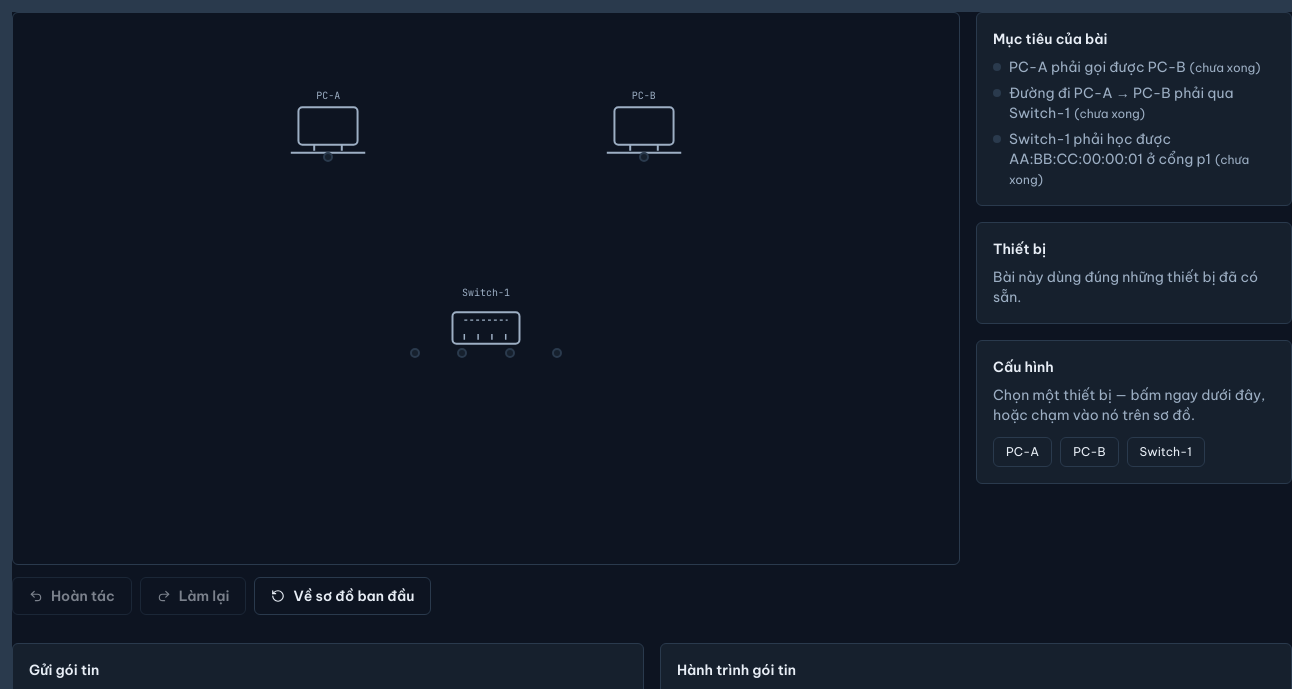
Test: nối dây bằng bấm chọn hai đầu › nối đủ hai máy vào switch thì bài xong
The image size is (1292, 689).
What coordinates should you click on to do the following:
click the 1st button "PC-A"
I would click on:
 (328, 131)
Its box is [291,105,366,157].
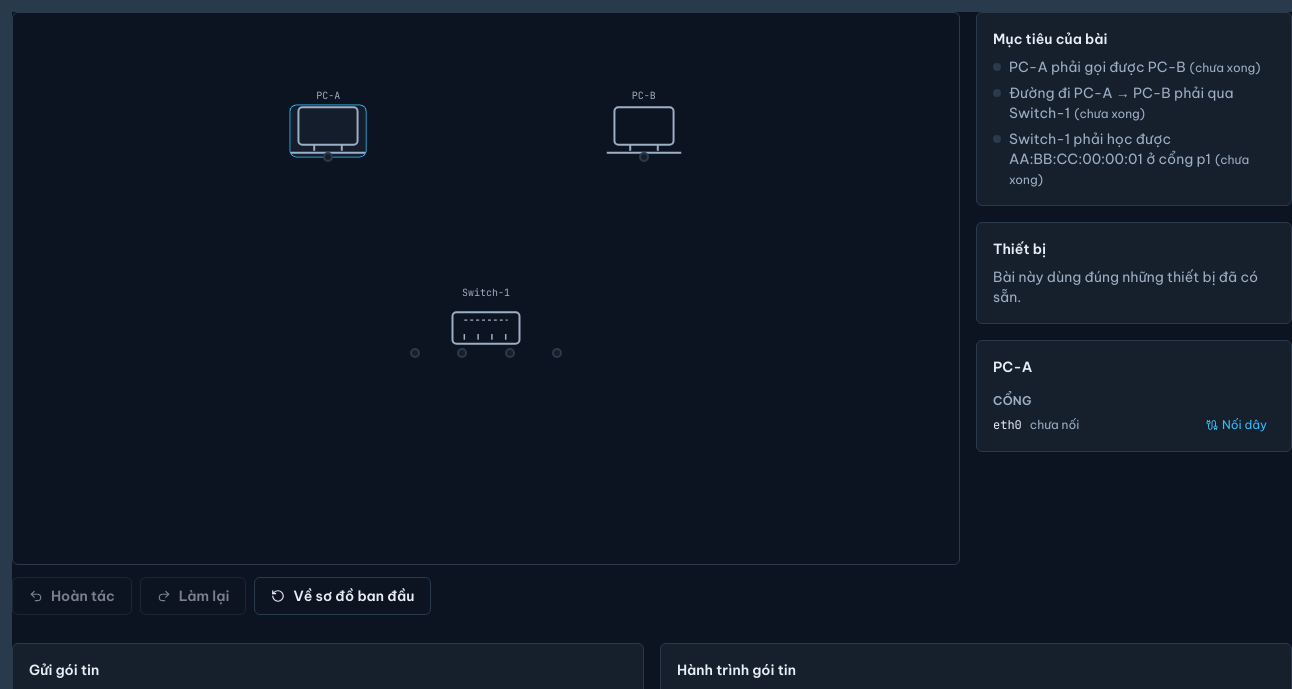
What coordinates should you click on to do the following:
click the button "Nối dây"
I would click on:
 (1236, 425)
Its box is [1198,415,1275,435].
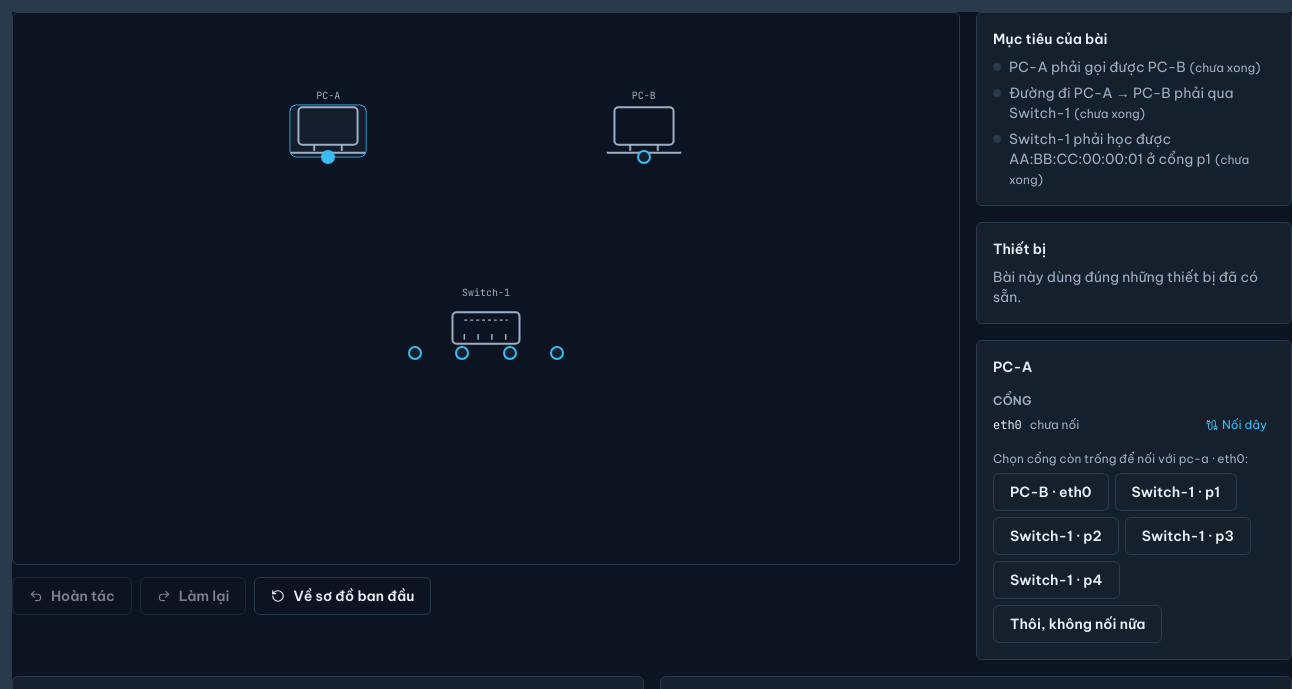
What coordinates should you click on to do the following:
click the button "Switch-1 · p1"
I would click on:
 (1176, 492)
Its box is [1115,473,1237,511].
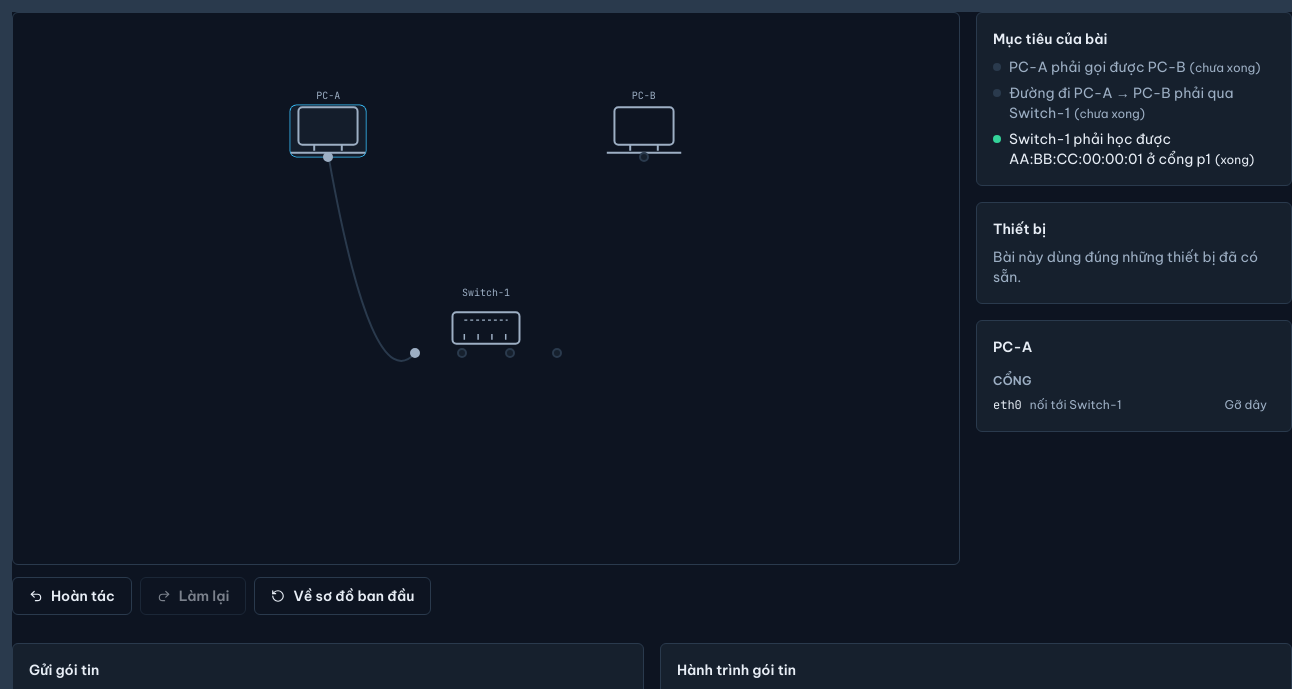
What coordinates should you click on to do the following:
click the button "PC-B"
I would click on:
 (644, 131)
Its box is [606,105,681,157].
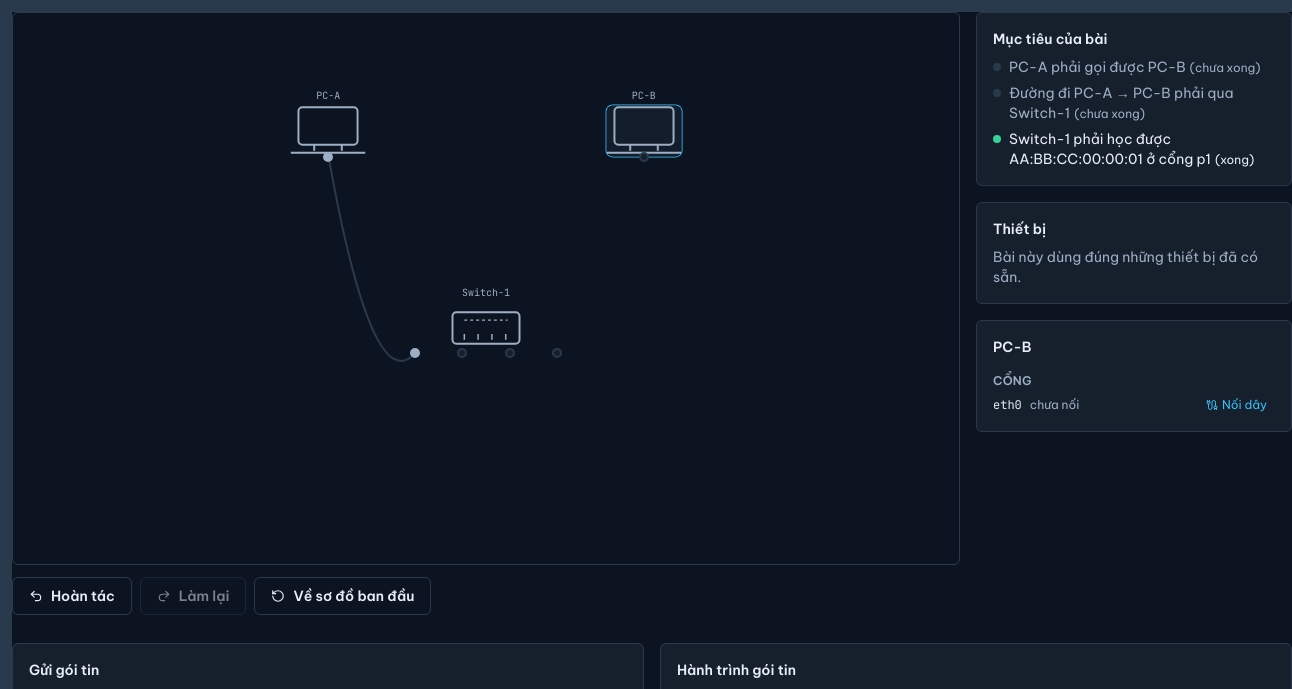
What coordinates should you click on to do the following:
click the button "Nối dây"
I would click on:
 (1236, 405)
Its box is [1198,395,1275,415].
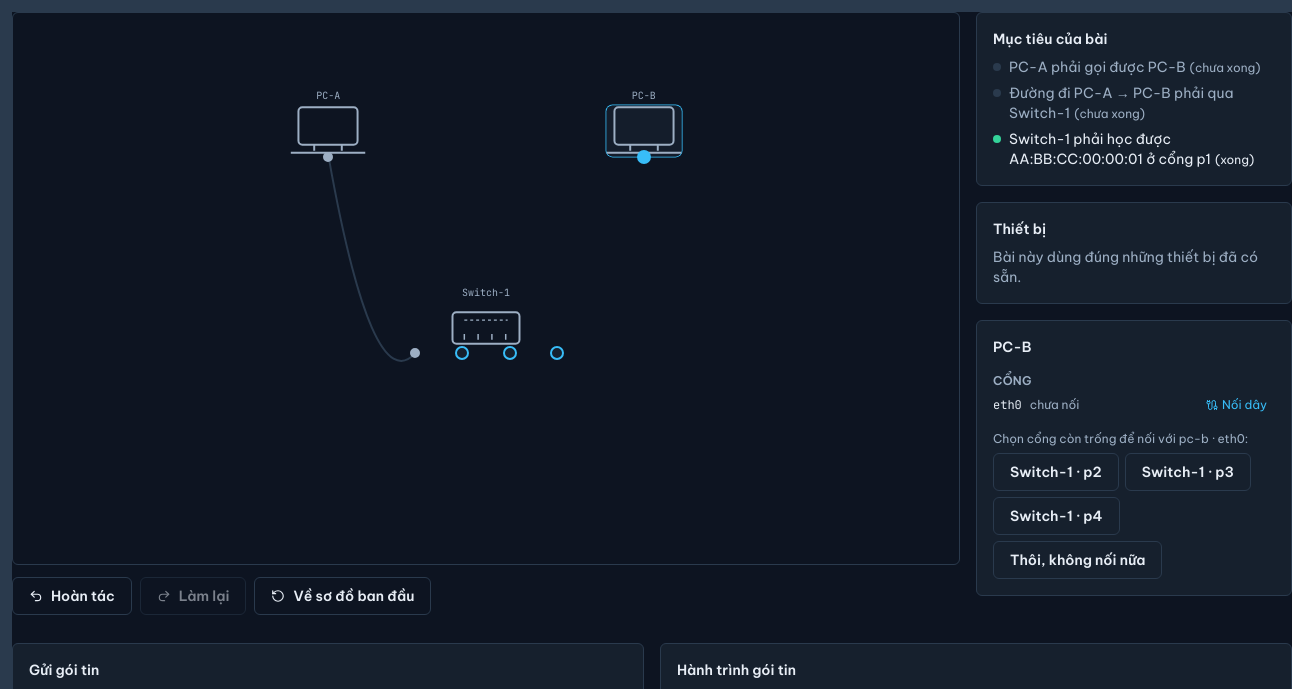
What coordinates should you click on to do the following:
click the button "Switch-1 · p2"
I would click on:
 (1056, 472)
Its box is [993,453,1119,491].
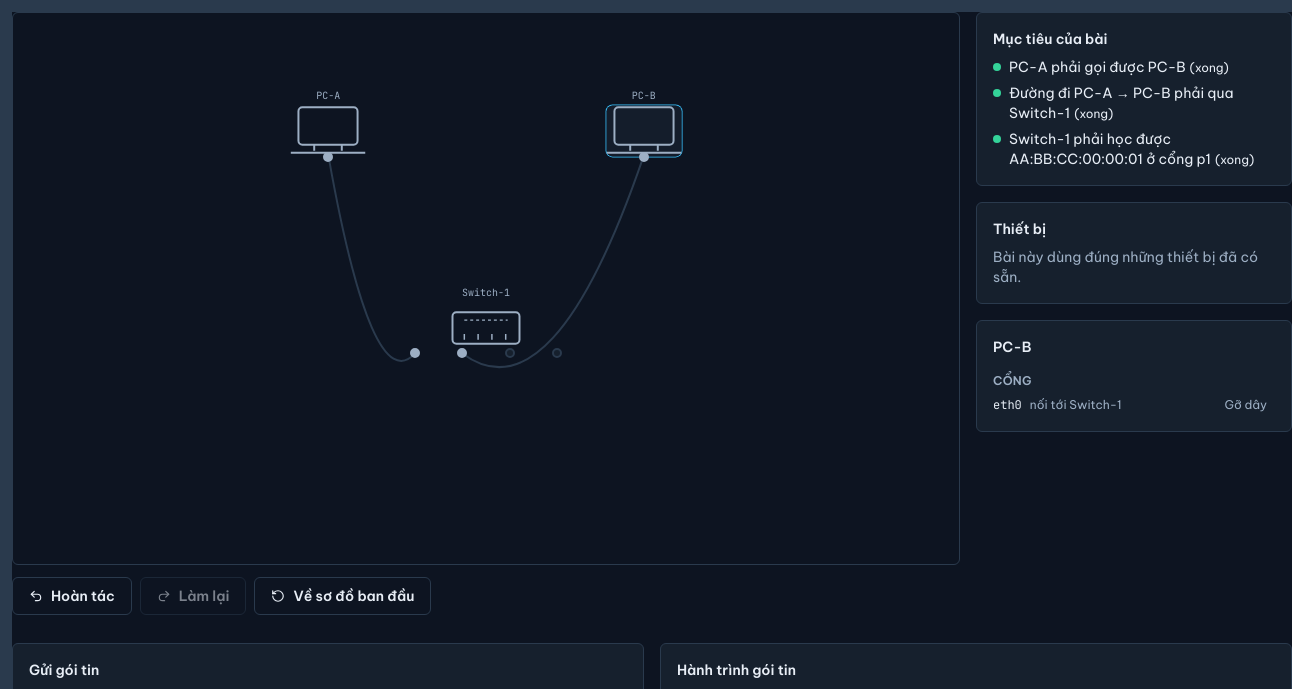
Expected: the text "(chưa xong)" is not shown
